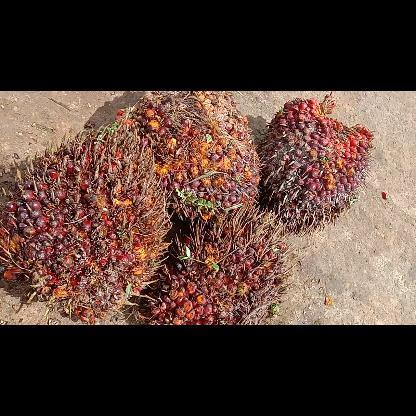TBS masak: (0, 121, 173, 324), (116, 91, 264, 219), (145, 204, 295, 324), (257, 91, 375, 235)
